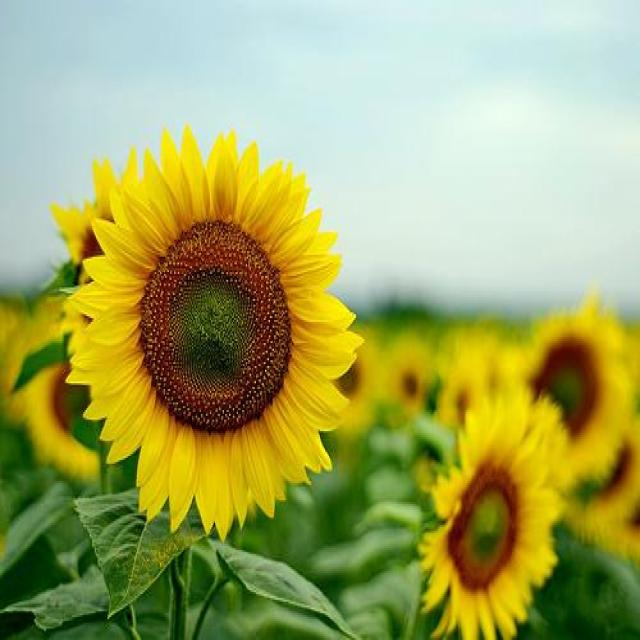sunflower: (65, 125, 366, 538), (420, 387, 562, 640), (508, 316, 632, 482), (54, 150, 150, 284), (27, 347, 101, 482), (561, 425, 640, 528), (439, 361, 492, 430), (388, 342, 434, 408)
